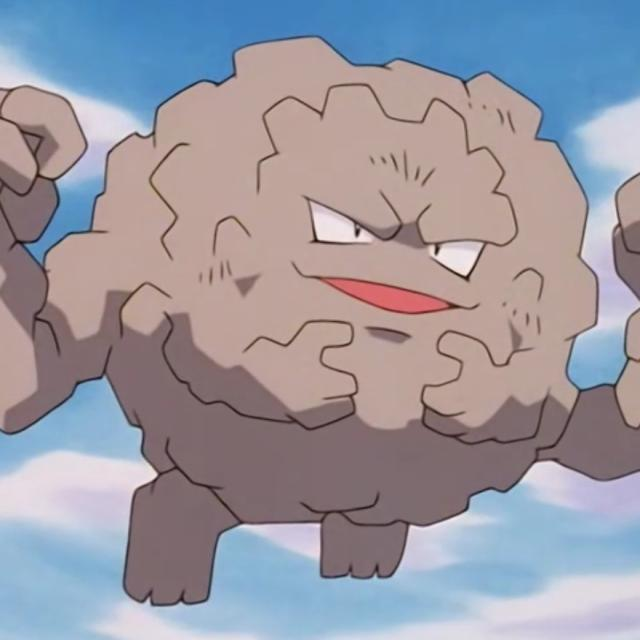Graveler: (0, 27, 640, 610)
